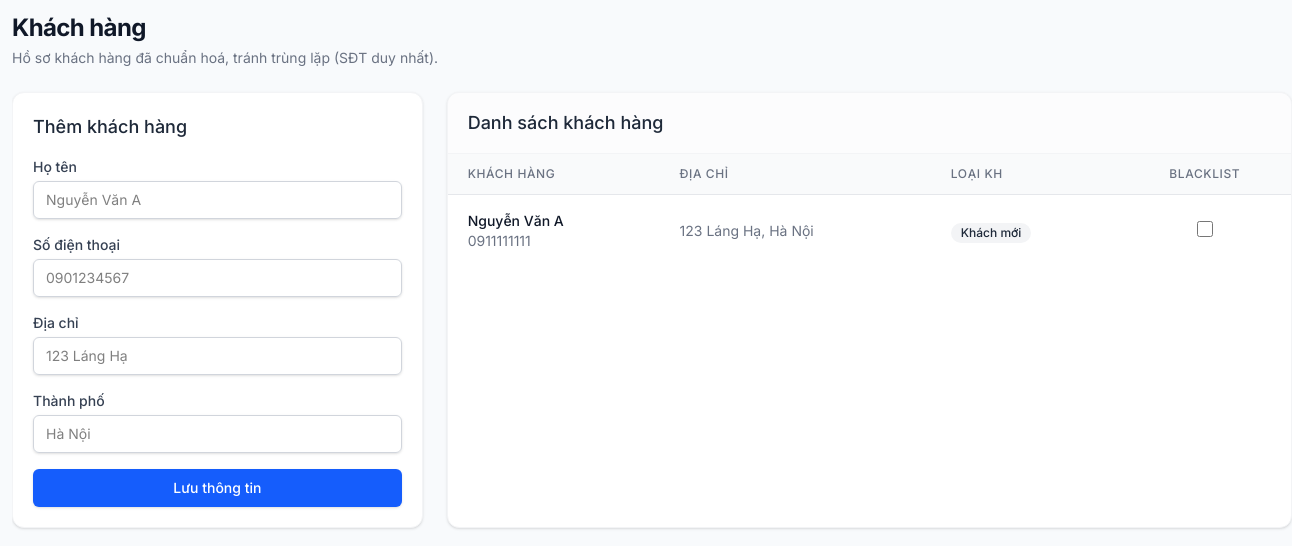
Test: CustomersPage › hiển thị danh sách khách hàng và tạo mới qua form
The image size is (1292, 546).
Expected: the text "Nguyễn Văn A" is shown, top-left (468, 212), bottom-right (564, 229)
Expected: the button "Khách mới" is shown, top-left (951, 223), bottom-right (1031, 243)
Step 1. Type "Trần Thị B" into the field labelled "Họ tên" → (217, 200), box top-left (33, 181), bottom-right (402, 219)
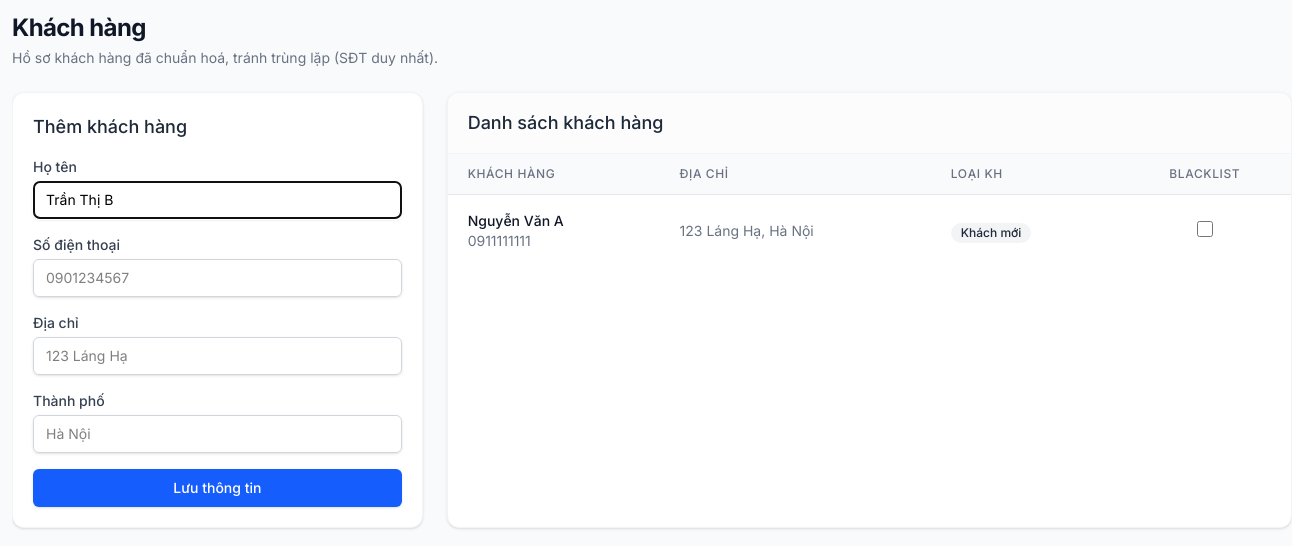
Step 2. Type "0922222222" into the field labelled "Số điện thoại" → (217, 278), box top-left (33, 259), bottom-right (402, 297)
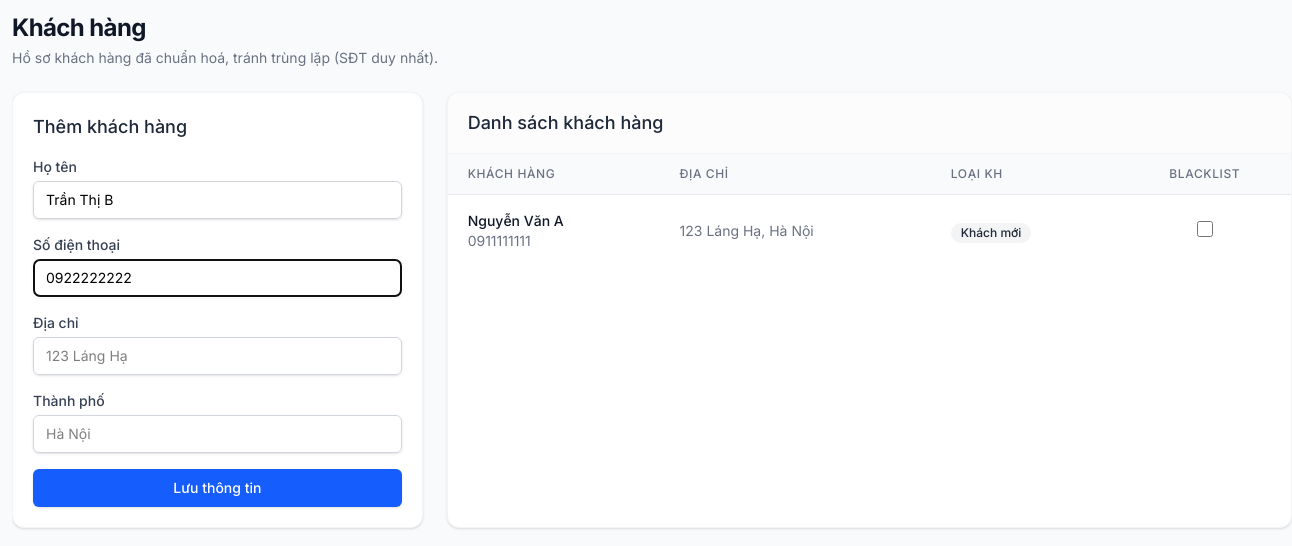
Step 3. Click the button "Lưu thông tin" → (217, 488), box top-left (33, 469), bottom-right (402, 507)
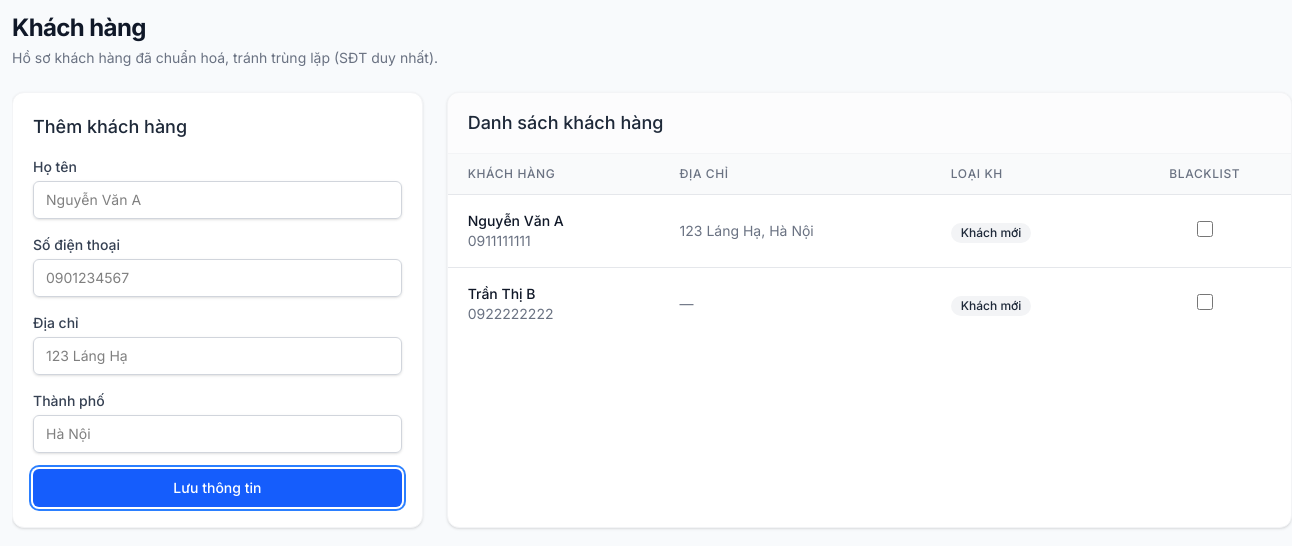
Result: the text "Trần Thị B" is shown at top-left (468, 285), bottom-right (536, 302)
